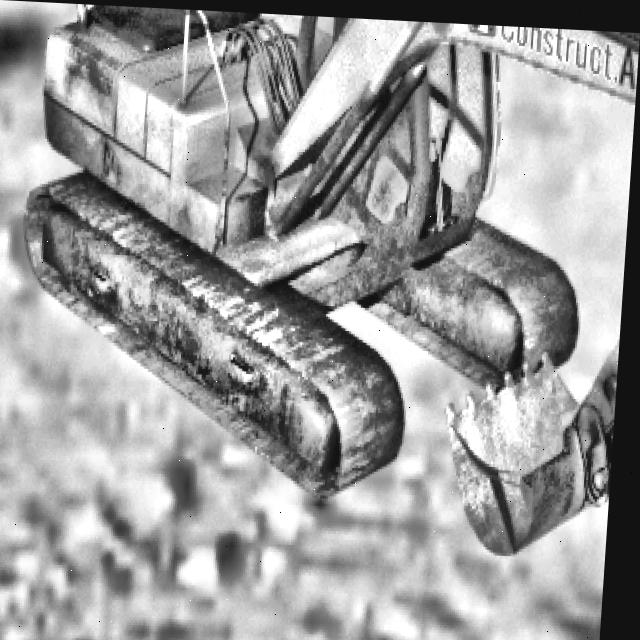excavator: (8, 1, 640, 551)
